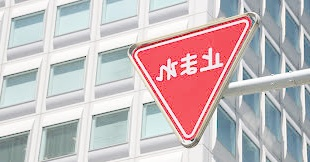Regulatory_sign_triangle: (121, 14, 254, 152)
